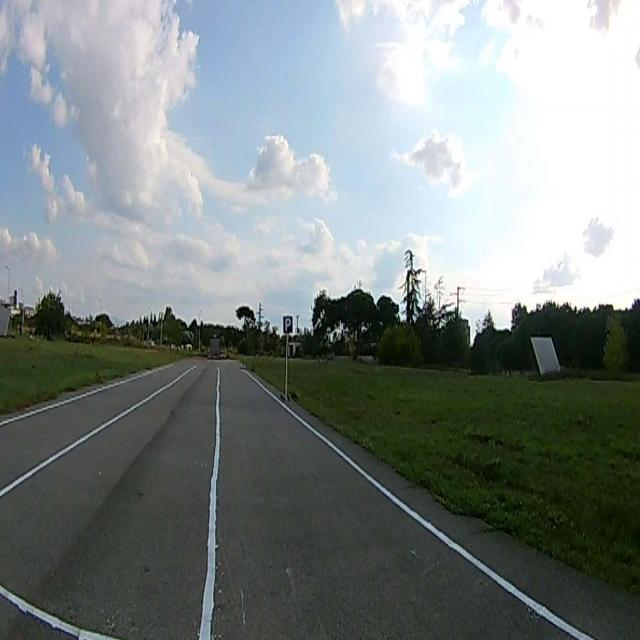park: (282, 315, 292, 333)
